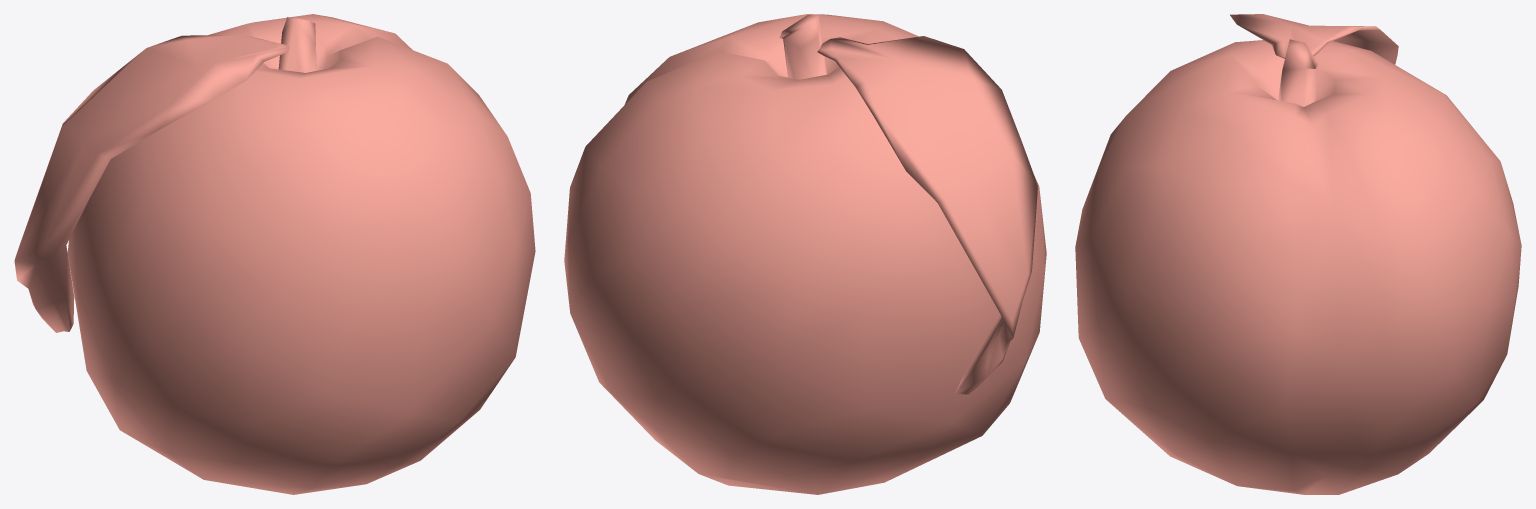
File: peach.obj
3 views of the same model, side by side, from view 1: azimuth 30°, elevation 25°; view 2: azimuth 150°, elevation 25°; view 3: azimuth 270°, elevation 25° (orthographic). The views are drawn at different scales.
Parts seen in each view (by area): view 1: peach; view 2: peach; view 3: peach.
Boxes of the visible parts, x1=… form: peach: x1=14, y1=14, x2=535, y2=494; peach: x1=564, y1=14, x2=1046, y2=494; peach: x1=1075, y1=14, x2=1521, y2=494.
Size of the model in its own units: 0.1358 by 0.1297 by 0.1226.
